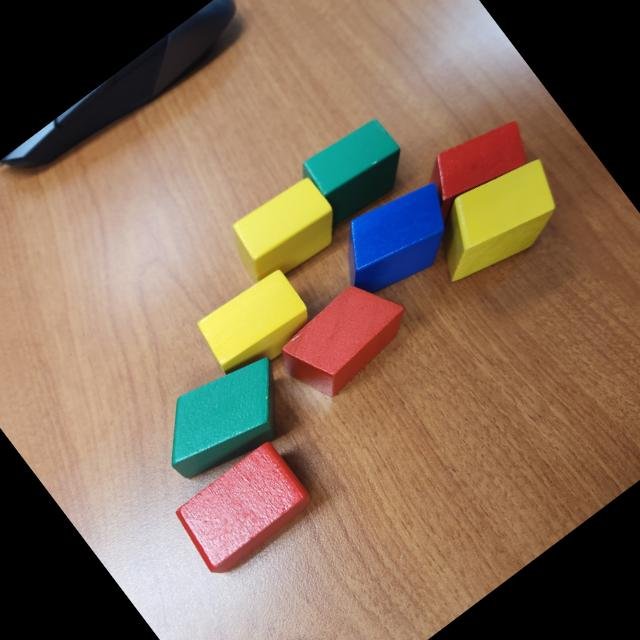blue: (315, 166, 476, 316)
green: (140, 338, 311, 498), (289, 109, 419, 233)
red: (269, 266, 423, 410), (167, 435, 319, 578), (407, 104, 541, 226)
yellow: (412, 143, 580, 299), (212, 170, 350, 302), (190, 262, 323, 388)
